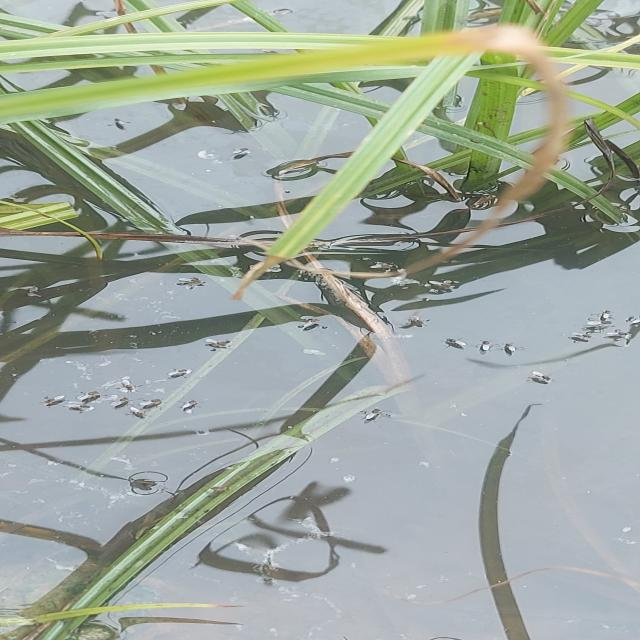Breeding Place: (4, 1, 640, 640)
Mosquito Swarm: (0, 264, 640, 436)
